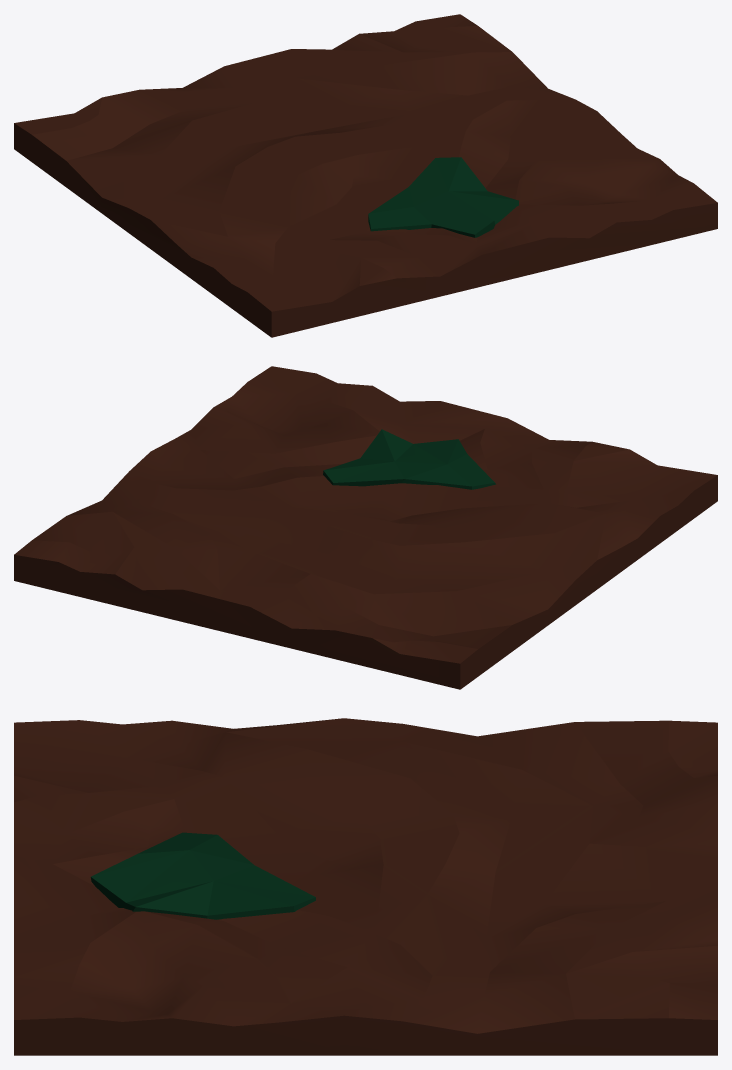
File: Ground_Base_D.fbx
3 views of the same model, one above another, from view 1: azimuth 30°, elevation 25°; view 2: azimuth 150°, elevation 25°; view 3: azimuth 270°, elevation 25° (orthographic). The views are drawn at different scales.
Visible parts, largest first — view 1: Ground_Base_D; view 2: Ground_Base_D; view 3: Ground_Base_D.
Part boxes in pixels (bbox=[...]): Ground_Base_D: bbox=[14, 14, 717, 337]; Ground_Base_D: bbox=[14, 366, 717, 689]; Ground_Base_D: bbox=[14, 718, 717, 1055].
Size of the model in its own units: 147 by 12.24 by 147.
